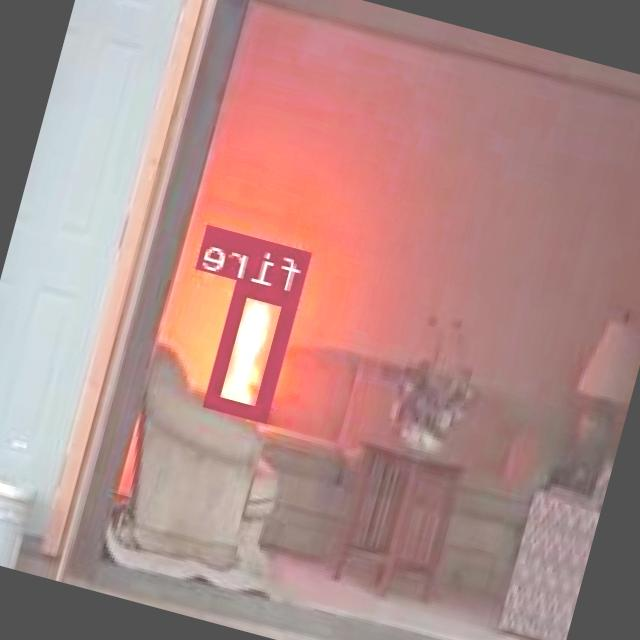fire: (208, 280, 302, 420)
